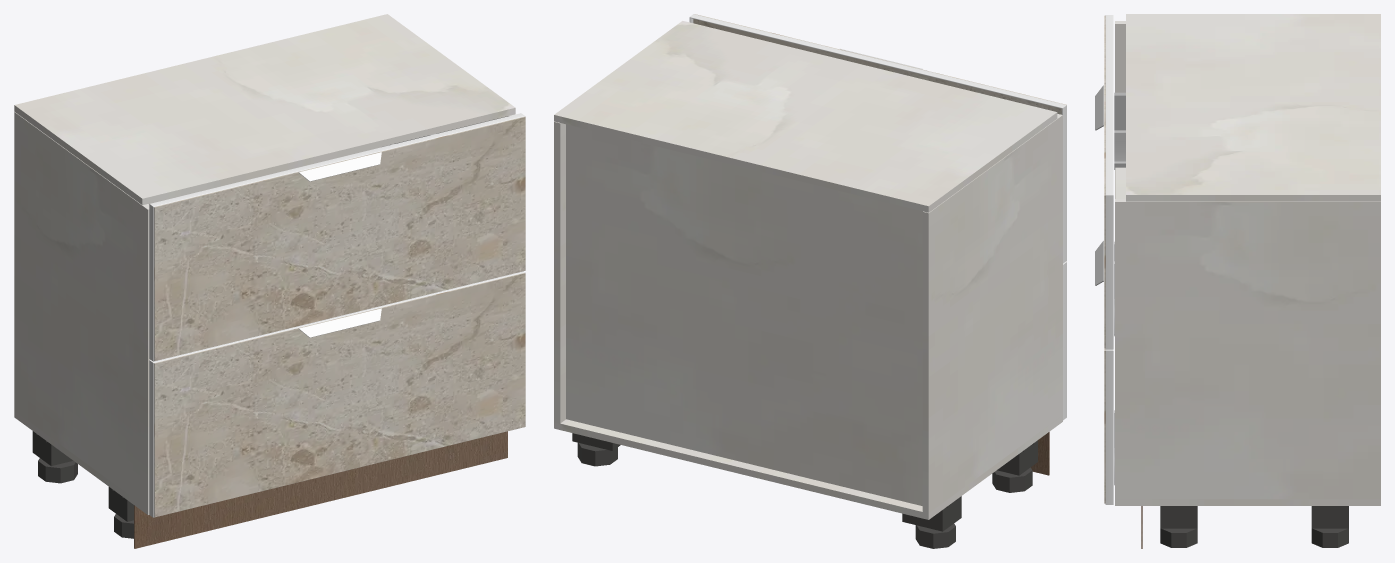
The picture shows the model from 3 angles, left to right: view 1: azimuth 30°, elevation 25°; view 2: azimuth 150°, elevation 25°; view 3: azimuth 270°, elevation 25°; orthographic projection.
Size of what is drawn, in the model's own units: 0.9 by 0.82 by 0.6.
Materials: 7 (3 with a texture image).
